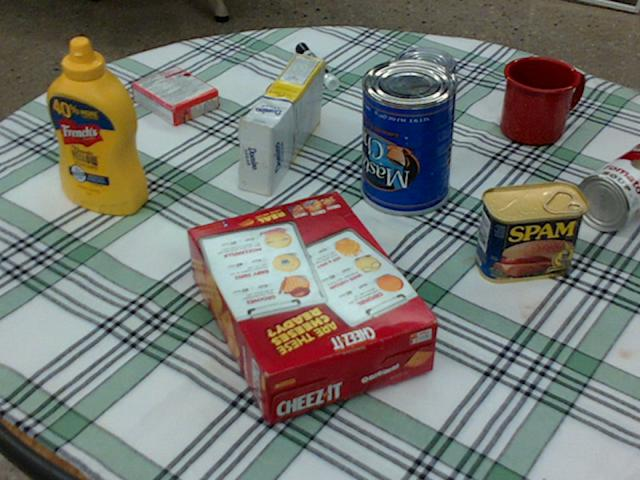cracker_box: (186, 191, 438, 425)
gelatin_box: (132, 67, 218, 125)
large_marker: (296, 41, 338, 89)
master_chef_can: (358, 58, 459, 214)
mug: (501, 56, 580, 145)
mustard_bottle: (47, 37, 146, 213)
potted_meat_can: (474, 181, 586, 282)
sugar_box: (239, 53, 323, 195)
tomato_soup_can: (576, 144, 639, 230)
tuna_fish_can: (394, 47, 456, 96)
